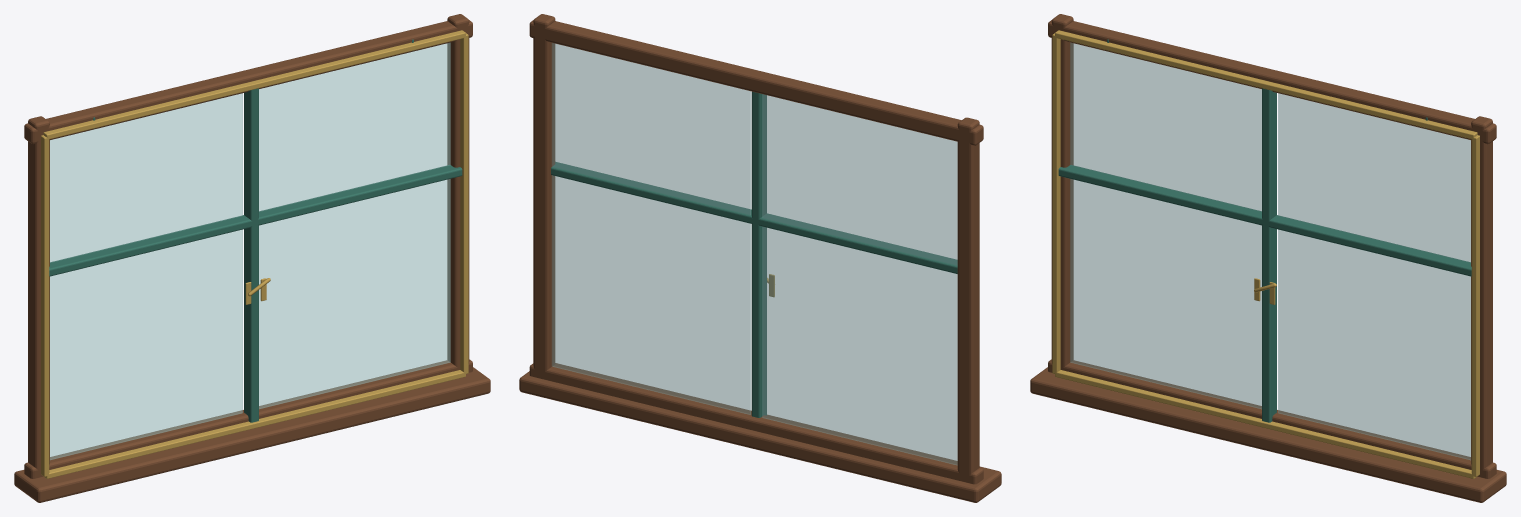
The model's file is workshop_window.glb.
3 renders of one model, left to right at view 1: azimuth 30°, elevation 25°; view 2: azimuth 150°, elevation 25°; view 3: azimuth 330°, elevation 25°, orthographic.
Parts seen in each view (by area): view 1: Clear_pane, Clear_pane.001, Timber_sill, Carved_frame_rail.001, Horizontal_mullion, Carved_frame_rail, Carved_frame_stile.001, Carved_frame_stile, Center_mullion, Inner_moulding.003, Inner_moulding.002, Inner_moulding (+1 smaller); view 2: Clear_pane.001, Clear_pane, Carved_frame_rail.001, Timber_sill, Carved_frame_rail, Carved_frame_stile, Carved_frame_stile.001, Horizontal_mullion, Center_mullion; view 3: Clear_pane.001, Clear_pane, Timber_sill, Carved_frame_rail.001, Horizontal_mullion, Carved_frame_rail, Carved_frame_stile, Carved_frame_stile.001, Center_mullion, Inner_moulding.003, Inner_moulding.002, Inner_moulding.001 (+1 smaller).
Part boxes in pixels (left/top/right/bottom): Clear_pane: left=50, top=93, right=242, bottom=460; Clear_pane.001: left=259, top=42, right=450, bottom=409; Timber_sill: left=14, top=367, right=490, bottom=502; Carved_frame_rail.001: left=24, top=20, right=472, bottom=144; Horizontal_mullion: left=49, top=165, right=462, bottom=276; Carved_frame_rail: left=24, top=359, right=472, bottom=478; Carved_frame_stile.001: left=447, top=14, right=469, bottom=370; Carved_frame_stile: left=28, top=116, right=49, bottom=471; Center_mullion: left=244, top=88, right=258, bottom=422; Inner_moulding.003: left=43, top=30, right=465, bottom=139; Inner_moulding.002: left=44, top=370, right=465, bottom=478; Inner_moulding: left=41, top=135, right=49, bottom=476; Clear_pane.001: left=552, top=43, right=750, bottom=414; Clear_pane: left=762, top=94, right=957, bottom=465; Carved_frame_rail.001: left=529, top=20, right=983, bottom=145; Timber_sill: left=519, top=363, right=1001, bottom=502; Carved_frame_rail: left=529, top=363, right=983, bottom=484; Carved_frame_stile: left=957, top=117, right=979, bottom=482; Carved_frame_stile.001: left=533, top=14, right=555, bottom=379; Horizontal_mullion: left=551, top=162, right=957, bottom=273; Center_mullion: left=751, top=91, right=766, bottom=417; Clear_pane.001: left=1278, top=93, right=1470, bottom=460; Clear_pane: left=1070, top=42, right=1261, bottom=409; Timber_sill: left=1030, top=367, right=1506, bottom=502; Carved_frame_rail.001: left=1048, top=20, right=1496, bottom=144; Horizontal_mullion: left=1058, top=165, right=1471, bottom=276; Carved_frame_rail: left=1048, top=359, right=1496, bottom=478; Carved_frame_stile: left=1051, top=14, right=1073, bottom=370; Carved_frame_stile.001: left=1471, top=116, right=1492, bottom=477; Center_mullion: left=1262, top=88, right=1276, bottom=422; Inner_moulding.003: left=1055, top=30, right=1477, bottom=139; Inner_moulding.002: left=1055, top=370, right=1476, bottom=478; Inner_moulding.001: left=1471, top=135, right=1479, bottom=476.
Size of the model in its own units: 2.38 by 1.85 by 0.23.
